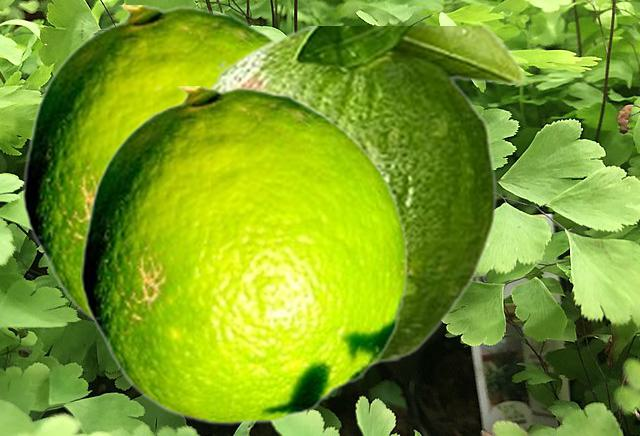dalandan: (80, 86, 407, 424), (206, 26, 524, 367), (22, 5, 275, 324)
